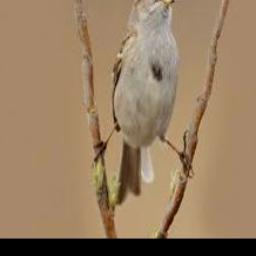Sparrow: (94, 0, 194, 204)
